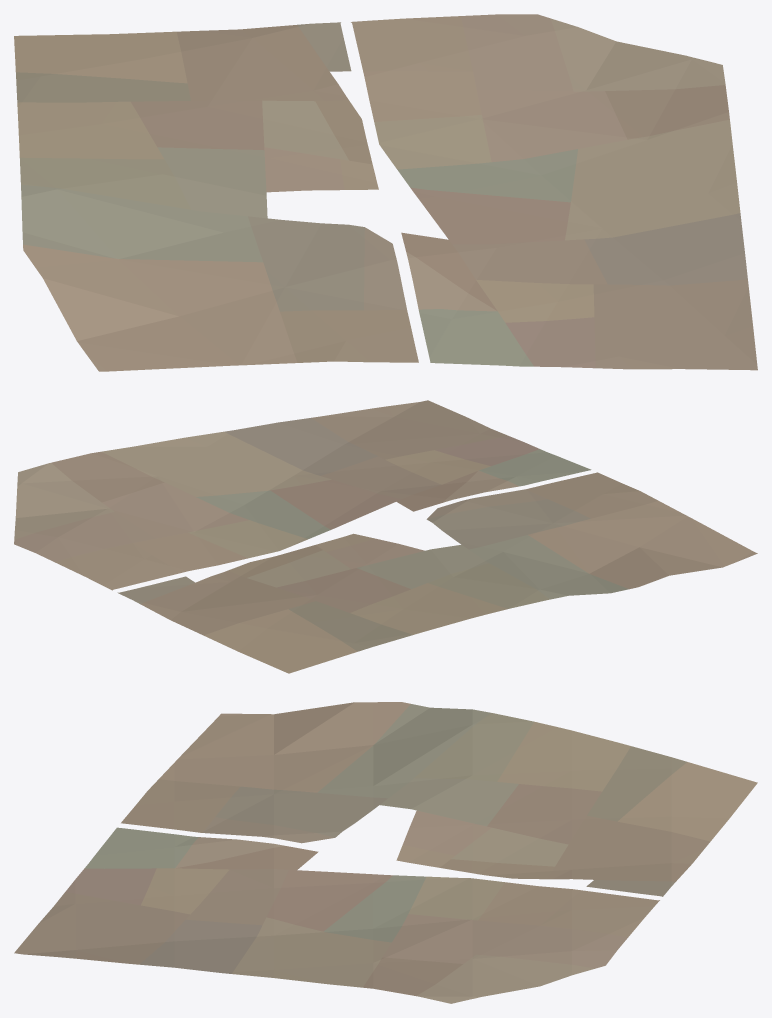
The model's file is farm_-5_6_soil.glb.
3 renders of one model, top to bottom at view 1: azimuth 30°, elevation 25°; view 2: azimuth 150°, elevation 25°; view 3: azimuth 270°, elevation 25°, orthographic. The views are drawn at different scales.
Visible parts, largest first — view 1: geometry_0; view 2: geometry_0; view 3: geometry_0.
Part boxes in pixels (x1,y1,x2,y2): geometry_0: [14, 14, 757, 371]; geometry_0: [14, 400, 757, 673]; geometry_0: [14, 702, 757, 1003].
Bounding box in the file's own units: 579 × 58.13 × 599.
